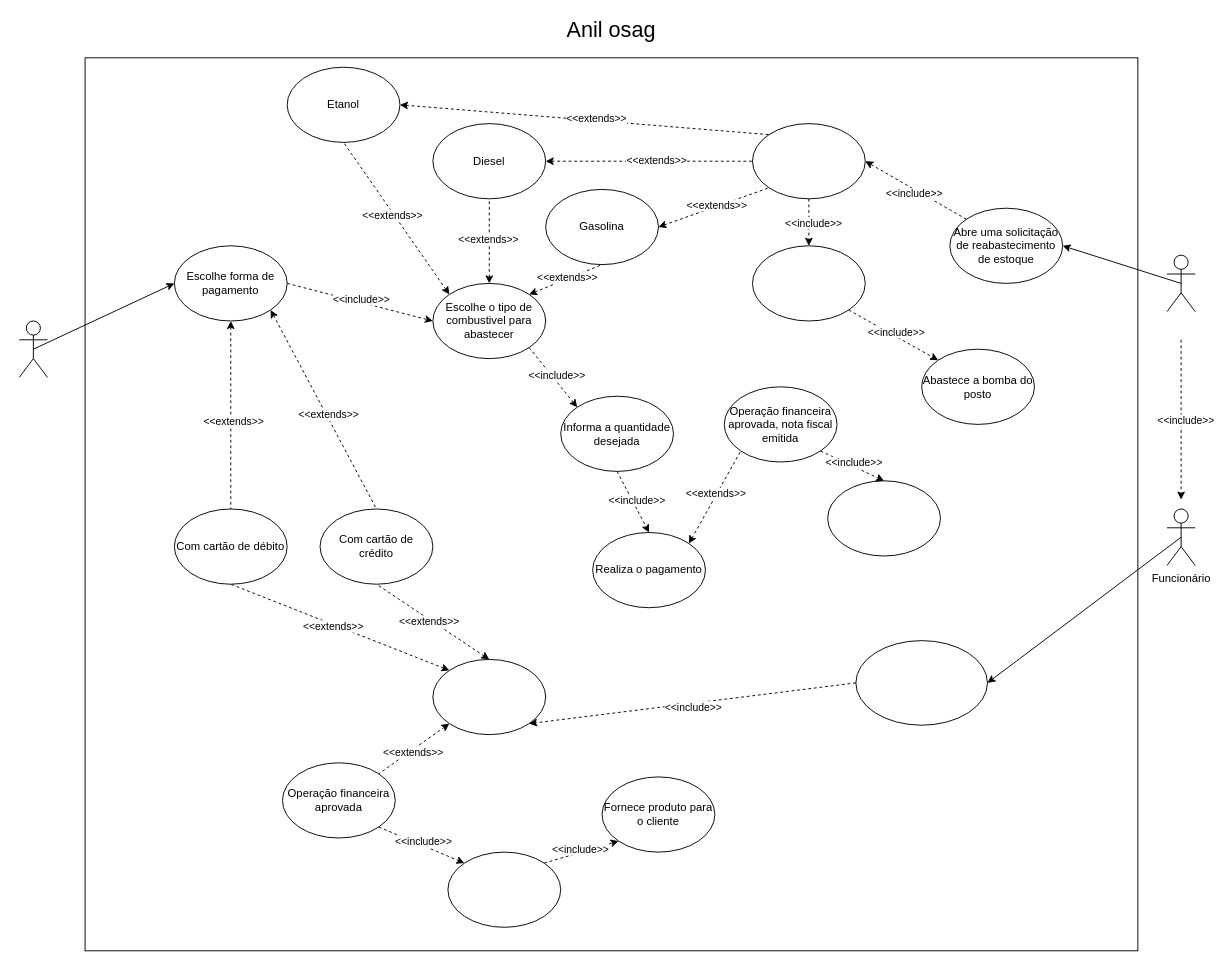
Image size: 1230x967. Some labels were removed from this diagram. The centre of each missing label's shape, as x and y in pixels:
"Aguarda cliente escolher uma forma de pagamento" belongs at (x=489, y=696).
"Cliente" belongs at (x=32, y=348).
"Combustivel liberado para o abastecimento" belongs at (x=883, y=518).
"Escolhe o tipo de combustivel" belongs at (x=808, y=161).
"Gerente" belongs at (x=1180, y=283).
"Realiza o pagamento para o fornecedor" belongs at (x=808, y=283).
"Recebe solicitação da venda de um ou mais produtos" belongs at (x=921, y=682).
"Registra a compra" belongs at (x=504, y=889).
